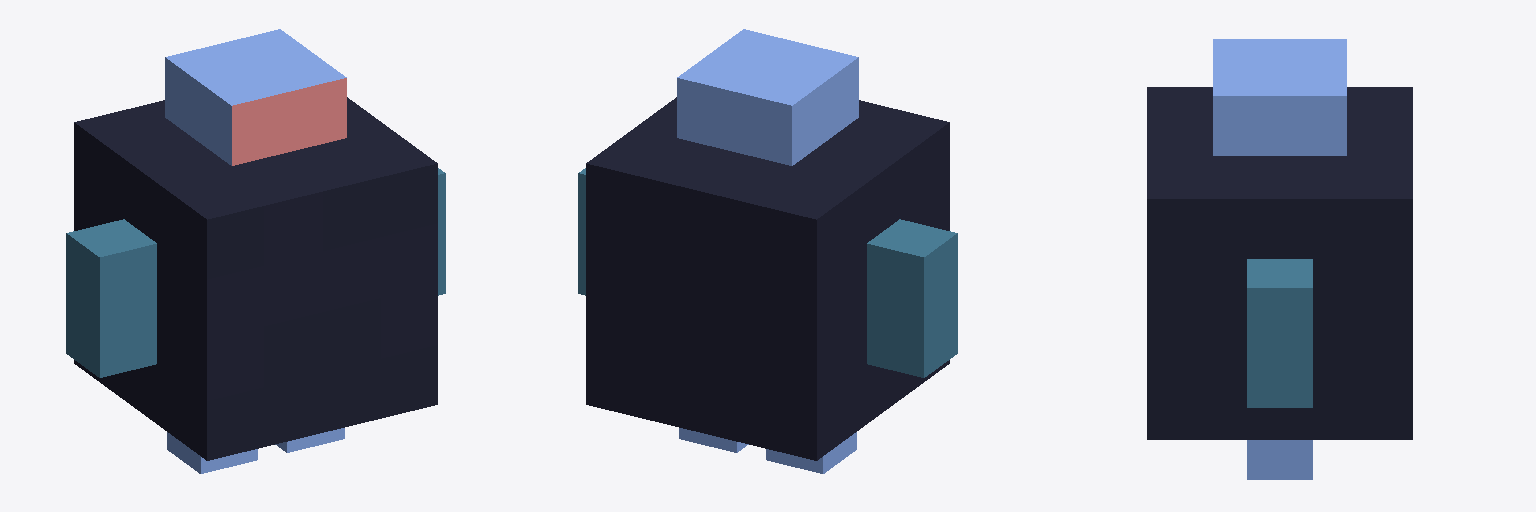
The picture shows the model from 3 angles: view 1: azimuth 30°, elevation 25°; view 2: azimuth 150°, elevation 25°; view 3: azimuth 270°, elevation 25°; orthographic projection.
Parts seen in each view (by area): view 1: torso, head, right_arm, right_leg, left_arm, left_leg; view 2: torso, head, right_arm, right_leg, left_arm, left_leg; view 3: torso, head, left_arm, left_leg.
Part boxes in pixels (left/top/right/bottom): torso: left=74, top=97, right=437, bottom=460; head: left=165, top=29, right=346, bottom=165; right_arm: left=66, top=219, right=156, bottom=377; right_leg: left=167, top=432, right=257, bottom=473; left_arm: left=438, top=168, right=445, bottom=295; left_leg: left=275, top=428, right=344, bottom=452; torso: left=586, top=97, right=949, bottom=460; head: left=677, top=29, right=858, bottom=165; right_arm: left=867, top=219, right=957, bottom=377; right_leg: left=766, top=432, right=856, bottom=473; left_arm: left=578, top=168, right=585, bottom=295; left_leg: left=679, top=428, right=748, bottom=452; torso: left=1147, top=87, right=1412, bottom=439; head: left=1213, top=39, right=1346, bottom=155; left_arm: left=1247, top=259, right=1312, bottom=407; left_leg: left=1247, top=440, right=1312, bottom=479.
Size of the model in its own units: 0.375 by 0.3906 by 0.25.
1 materials, 1 textured.